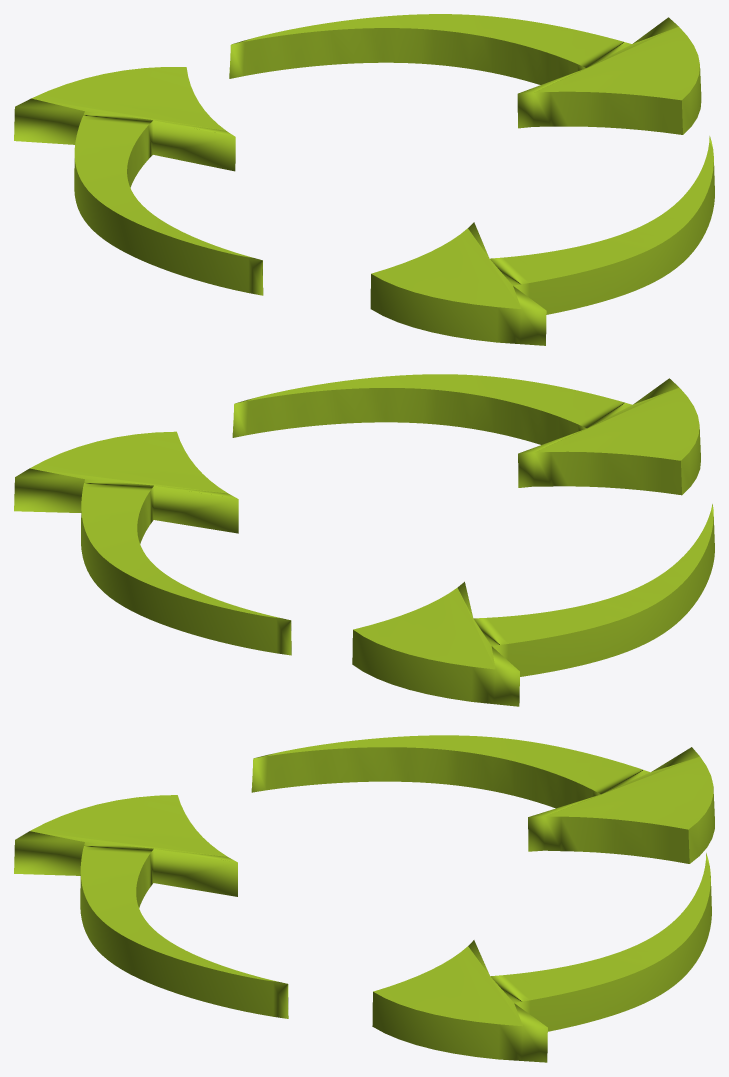
Rendered from 顺时针旋转.fbx.
The picture shows the model from 3 angles, top to bottom: view 1: azimuth 30°, elevation 25°; view 2: azimuth 150°, elevation 25°; view 3: azimuth 270°, elevation 25°; orthographic projection.
Visible parts, largest first — view 1: 转箭头.001; view 2: 转箭头.001; view 3: 转箭头.001.
Part boxes in pixels (bbox=[...]): 转箭头.001: bbox=[14, 14, 714, 345]; 转箭头.001: bbox=[14, 374, 714, 706]; 转箭头.001: bbox=[14, 735, 714, 1062].
Size of the model in its own units: 18425 by 1190 by 18390.
